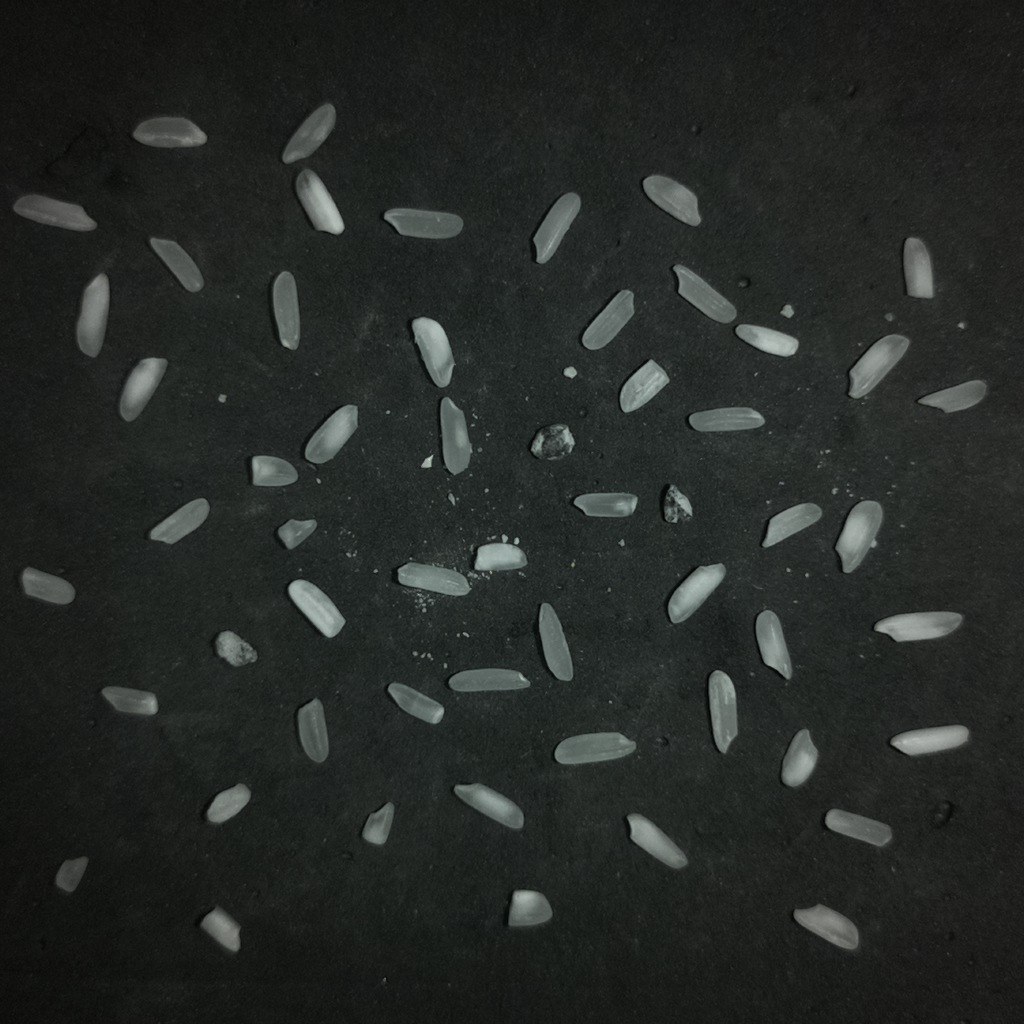broken: (835, 500, 882, 572), (304, 404, 357, 464), (793, 904, 858, 950), (642, 175, 700, 225), (149, 498, 209, 544), (762, 503, 821, 547), (825, 808, 892, 846), (755, 609, 791, 678), (387, 683, 444, 724), (917, 379, 987, 412), (132, 116, 206, 147), (780, 729, 818, 787), (296, 698, 328, 762), (20, 567, 75, 604), (507, 889, 552, 926), (101, 686, 158, 715), (573, 492, 637, 517), (251, 455, 297, 486), (362, 802, 394, 845), (54, 856, 88, 893), (276, 519, 316, 549)
chalky: (667, 563, 725, 623), (626, 813, 687, 869), (287, 579, 344, 637), (295, 168, 343, 234), (119, 357, 167, 421), (411, 317, 454, 387), (76, 273, 109, 356), (873, 611, 962, 641), (620, 360, 668, 412), (890, 725, 969, 755), (734, 324, 797, 356), (903, 237, 933, 298), (199, 907, 239, 952), (206, 783, 250, 823), (474, 542, 526, 570)
foreign: (214, 630, 257, 666), (530, 424, 574, 459), (662, 484, 692, 523)
whole: (848, 334, 909, 398), (673, 264, 735, 323), (281, 102, 335, 163), (533, 192, 579, 263), (453, 783, 523, 829), (12, 194, 96, 231), (582, 290, 633, 350), (149, 237, 203, 292), (538, 602, 573, 680), (555, 732, 635, 764), (383, 208, 463, 239), (439, 397, 471, 474), (397, 562, 470, 595), (708, 670, 737, 753), (272, 271, 300, 349), (448, 668, 530, 691), (688, 407, 763, 431)
